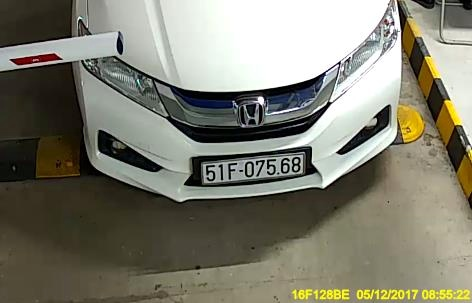plate: (197, 153, 308, 180)
